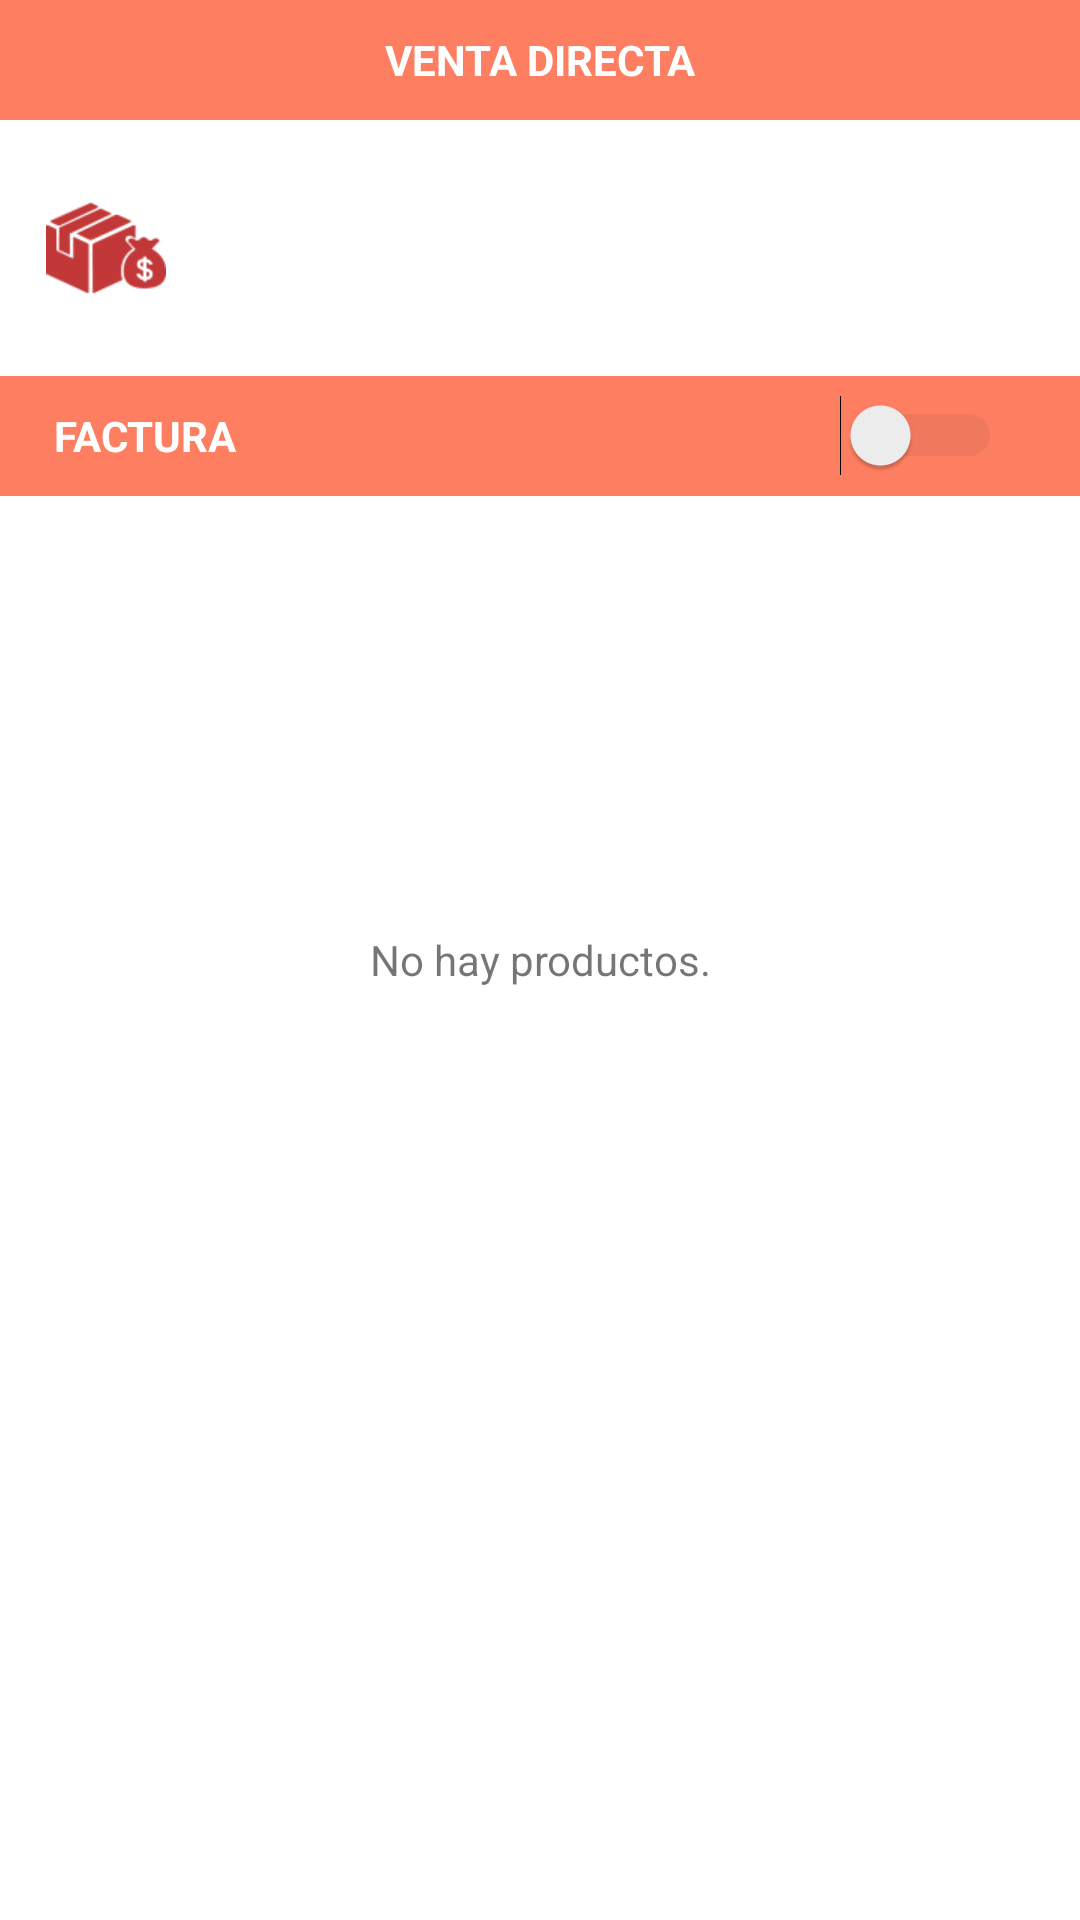

Screen size 1080*1920. Icon name, then its center in pixels as [x,y]:
dashboard direct sale: [106,248]
